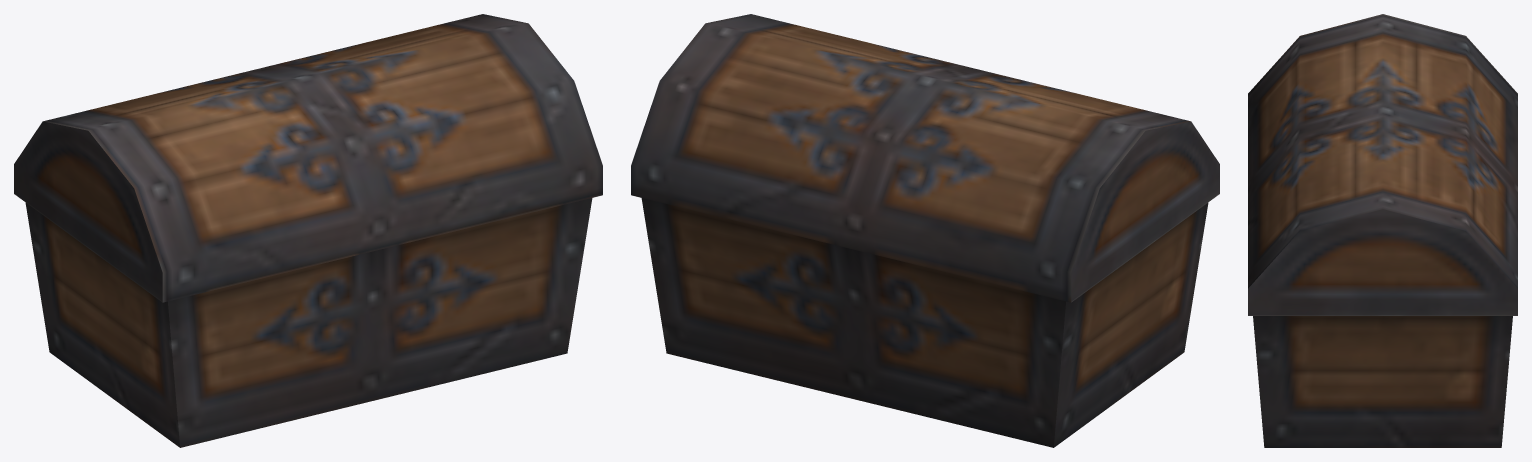
File: wood_box.FBX
3 renders of one model, left to right at view 1: azimuth 30°, elevation 25°; view 2: azimuth 150°, elevation 25°; view 3: azimuth 270°, elevation 25°, orthographic. The views are drawn at different scales.
Parts seen in each view (by area): view 1: Object127; view 2: Object127; view 3: Object127.
Boxes of the visible parts, bbox=[...] form: Object127: bbox=[14, 14, 602, 447]; Object127: bbox=[631, 14, 1219, 447]; Object127: bbox=[1248, 14, 1517, 447].
Bounding box in the file's own units: 0.703 × 0.421 × 0.4108.
